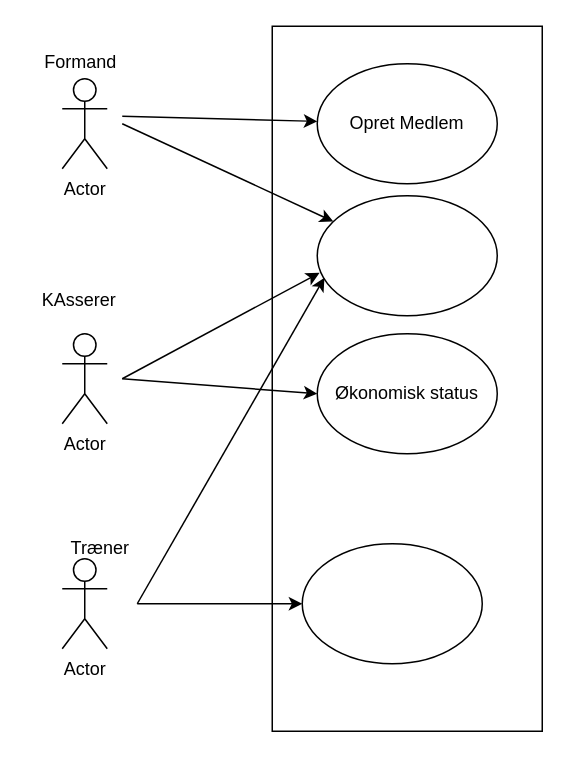
Some shapes in this 569 by 758 pixel diagram are drawn without their labels. Each missing label, with the centre of its shape:
"Administrer hold" goes at [391,603].
"opdater medlem" goes at [406,255].
